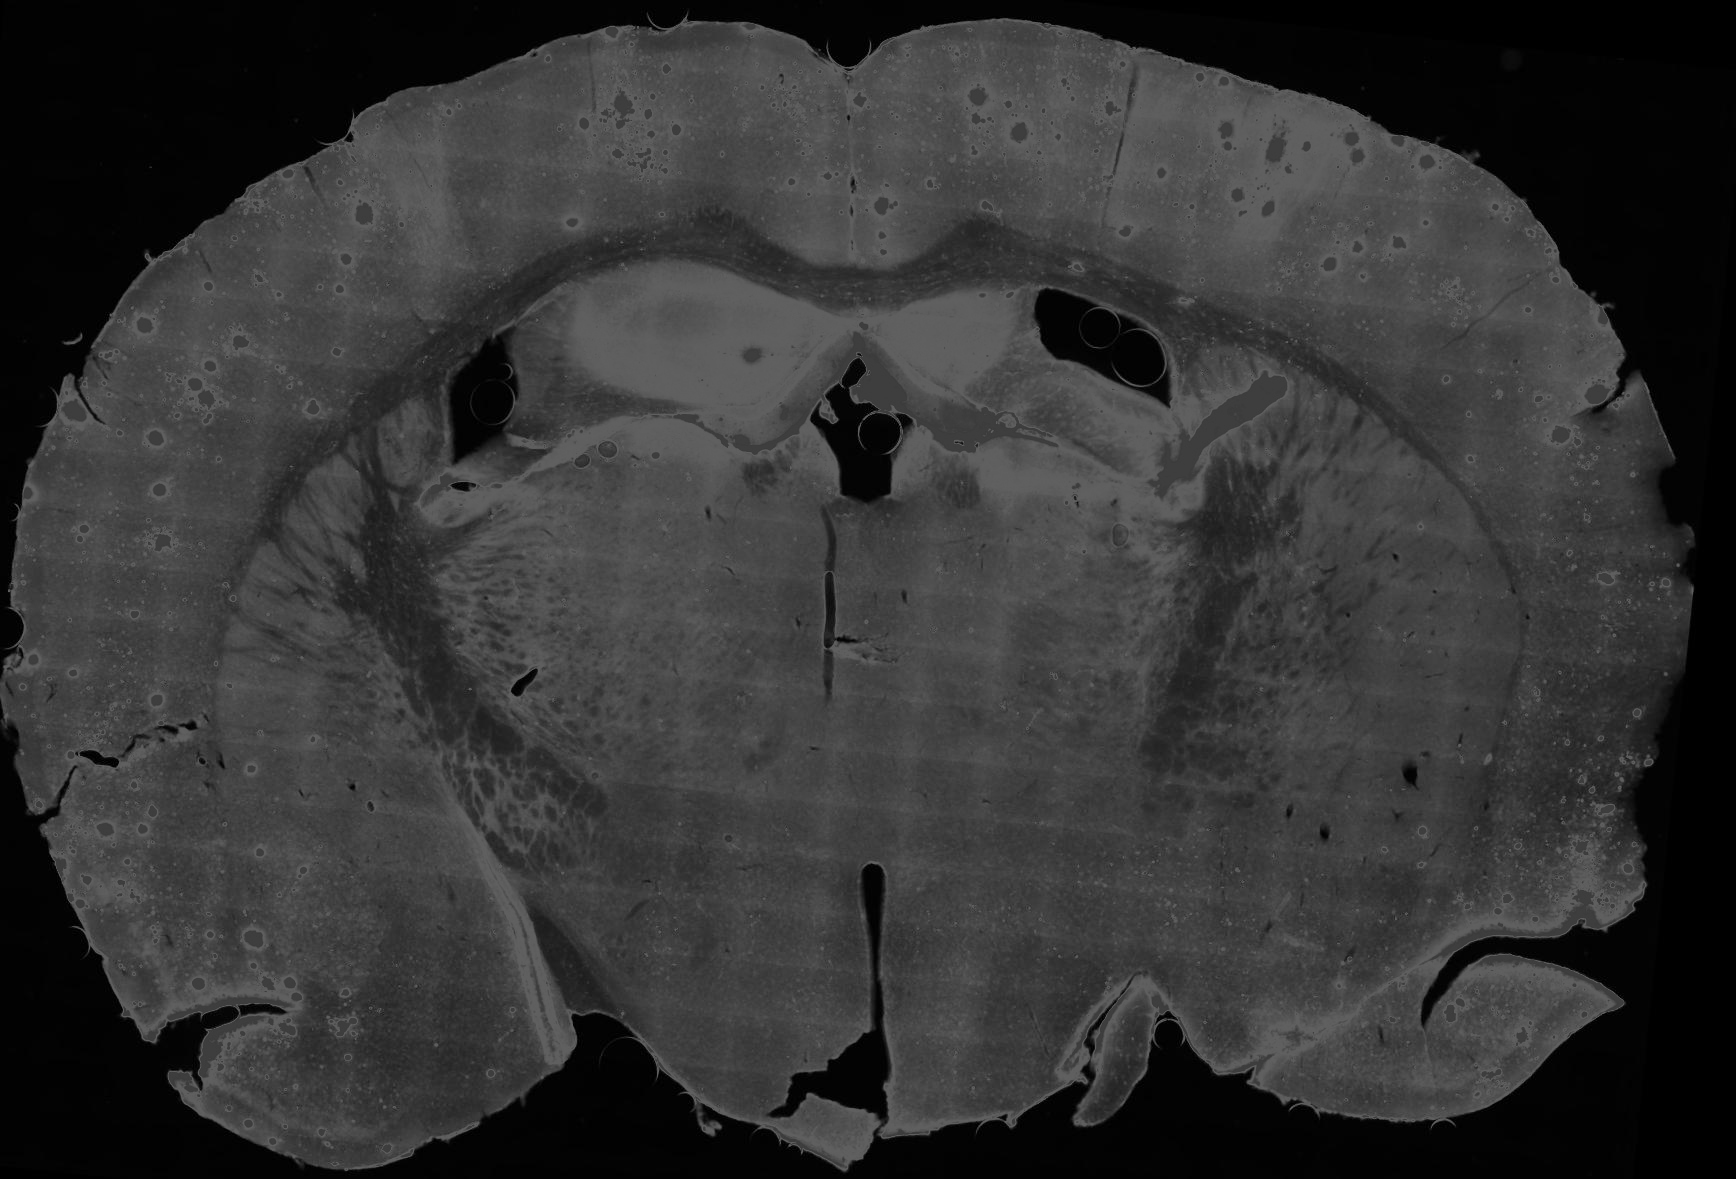Cerebral nuclei: (1184, 341, 1526, 876), (216, 382, 452, 845)
Hippocampal formation: (512, 259, 856, 447)
Hypothalamus: (487, 776, 868, 1171), (871, 753, 1155, 1143)
Retrosplenial area: (850, 29, 972, 271), (734, 30, 854, 271)
Somatosensory area: (80, 86, 492, 497), (1096, 45, 1562, 397)
Thalamus: (429, 418, 871, 807), (867, 425, 1197, 809)
